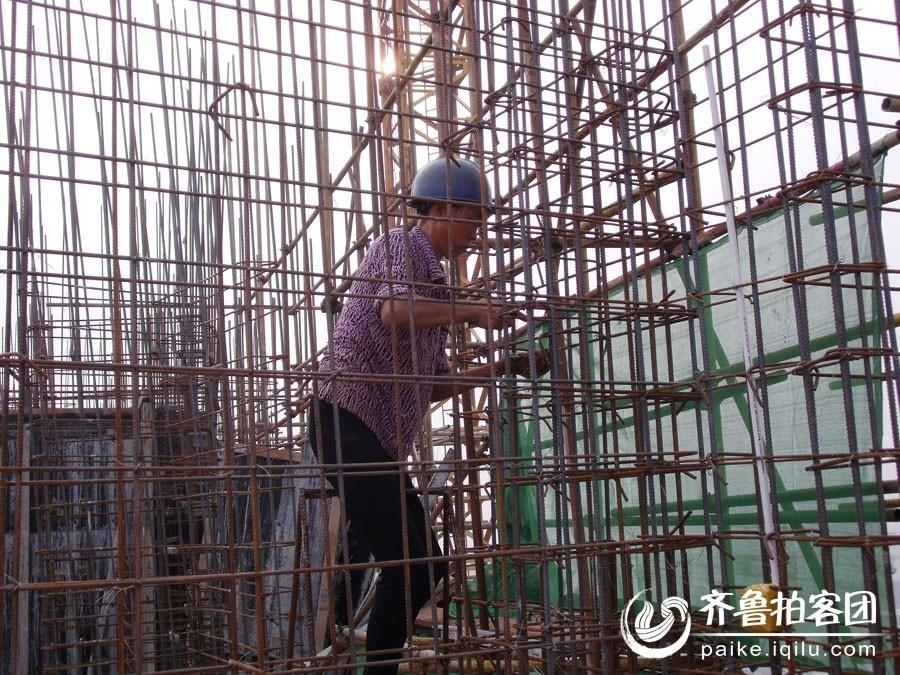helmet: (405, 151, 501, 264)
not_reflective: (312, 220, 453, 473)
